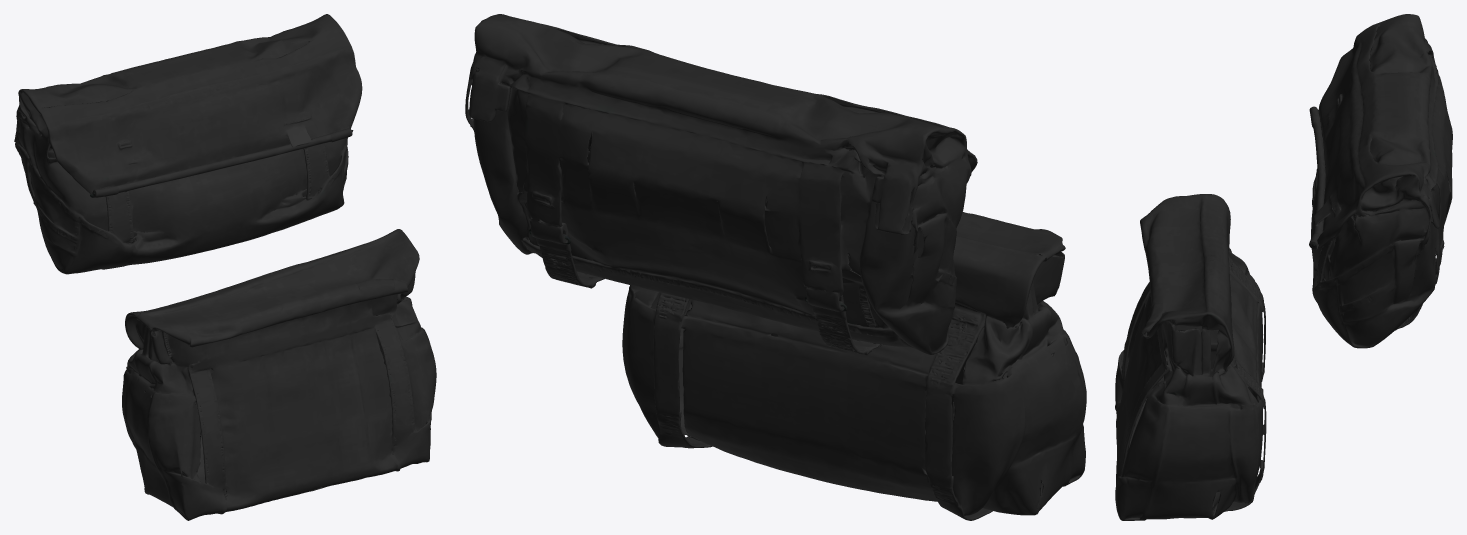
The model's file is pouch.glb.
3 views of the same model, side by side, from view 1: azimuth 30°, elevation 25°; view 2: azimuth 150°, elevation 25°; view 3: azimuth 270°, elevation 25° (orthographic). The views are drawn at different scales.
Parts seen in each view (by area): view 1: geometry_0; view 2: geometry_0; view 3: geometry_0.
Part boxes in pixels (x1,y1,x2,y2): geometry_0: (14, 14, 436, 520); geometry_0: (465, 14, 1086, 520); geometry_0: (1115, 14, 1452, 520).
Bounding box in the file's own units: 0.8106 × 0.8429 × 0.6975.
1 material, 1 textured.
